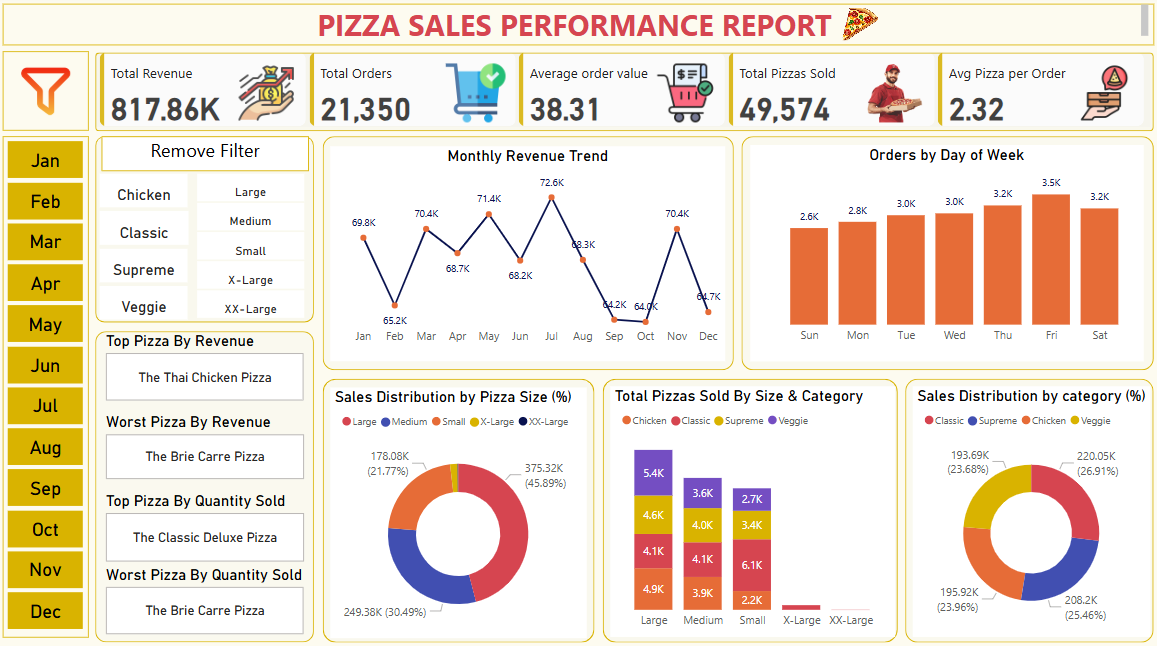

The page's visual inventory and layout, read from the dashboard file:
{"tool":"powerbi","page":{"name":"Dashboard","canvas":[1280,720],"ordinal":0},"visuals":[{"type":"cardVisual","fields":{"Data":["pizzahut_all_measures.Total Revenue","pizzahut_all_measures.Total Orders","pizzahut_all_measures.Average order value","pizzahut_all_measures.Total Pizzas Sold","pizzahut_all_measures.Average Pizza per Order"]},"box":[111.3,63.6,1158,81.9],"z":0},{"type":"shape","box":[111.1,369.1,240.1,341.7],"z":1000},{"type":"shape","box":[667.7,420.7,324.1,289.8],"z":2000},{"type":"shape","box":[820.5,155.3,452.4,256.8],"z":3000},{"type":"shape","box":[360.7,420.7,298.4,289.8],"z":4000},{"type":"shape","box":[1000.3,420.7,272.7,289.8],"z":5000},{"type":"shape","box":[360.7,155.3,451.2,256.8],"z":6000},{"type":"shape","box":[111.1,63.1,1162.3,86.4],"z":7000},{"type":"lineChart","title":"Monthly Revenue Trend ","fields":{"Category":["pizzahut orders.Month Name"],"Y":["pizzahut_all_measures.Total Revenue"]},"box":[369.1,166,433.6,236],"z":8000},{"type":"columnChart","title":"Orders by Day of Week","fields":{"Category":["pizzahut orders.Day Name"],"Y":["pizzahut_all_measures.Total Orders"]},"box":[830.3,165.1,431.7,237.2],"z":9000},{"type":"donutChart","title":"Sales Distribution by category (%)","fields":{"Category":["pizzahut pizza_types.category"],"Y":["pizzahut_all_measures.Total Revenue"]},"box":[1008.8,429.2,260.5,275.1],"z":10000},{"type":"columnChart","title":"Total Pizzas Sold By Size & Category","fields":{"Category":["pizzahut pizzas.size"],"Y":["pizzahut_all_measures.Total Pizzas Sold"],"Series":["pizzahut pizza_types.category"]},"box":[676.2,429.2,313,275.1],"z":11000},{"type":"donutChart","title":"Sales Distribution by Pizza Size (%)","fields":{"Y":["pizzahut_all_measures.Total Revenue"],"Category":["pizzahut pizzas.size"]},"box":[369.3,430.4,281.3,275.1],"z":12000},{"type":"textbox","box":[9.6,9,1263.8,45.3],"z":13000},{"type":"image","box":[919.4,9.6,60.4,45.3],"z":14000},{"type":"advancedSlicerVisual","fields":{"Values":["pizzahut orders.Month Name"]},"box":[9.6,155.1,94.7,550.3],"z":15000},{"type":"image","box":[9.8,61.1,94.2,86.8],"z":16000},{"type":"advancedSlicerVisual","title":"Top Pizza By Revenue","fields":{"Values":["pizzahut pizza_types.name"]},"box":[118,369.1,227.8,79.6],"z":17000},{"type":"advancedSlicerVisual","title":"Worst Pizza By Revenue","fields":{"Values":["pizzahut pizza_types.name"]},"box":[118,458.3,227.8,76.8],"z":18000},{"type":"advancedSlicerVisual","title":"Top Pizza By Quantity Sold","fields":{"Values":["pizzahut pizza_types.name"]},"box":[118,544.8,227.8,81],"z":19000},{"type":"advancedSlicerVisual","title":"Worst Pizza By Quantity Sold","fields":{"Values":["pizzahut pizza_types.name"]},"box":[118,625.7,227.8,79.6],"z":20000},{"type":"shape","box":[111.1,155.1,240.1,204.5],"z":21000},{"type":"actionButton","box":[118,155.1,227.8,38.4],"z":22000},{"type":"advancedSlicerVisual","fields":{"Values":["pizzahut pizza_types.category"]},"box":[111.1,196.2,107,160],"z":23000},{"type":"advancedSlicerVisual","fields":{"Values":["pizzahut pizzas.size"]},"box":[218.2,196.2,127.6,160],"z":24000}]}

Visuals, with their boxes in screenshot pixels (x1, y1, x2, y2), scaled from the page's 1280x720 canvas onto the 1157x646 screenshot:
cardVisual - pizzahut_all_measures.Total Revenue x pizzahut_all_measures.Total Orders: 101:57:1147:131
shape: 100:331:317:638
shape: 604:377:896:637
shape: 742:139:1151:370
shape: 326:377:596:637
shape: 904:377:1151:637
shape: 326:139:734:370
shape: 100:57:1151:134
"Monthly Revenue Trend " lineChart: 334:149:726:361
"Orders by Day of Week" columnChart: 751:148:1141:361
"Sales Distribution by category (%)" donutChart: 912:385:1147:632
"Total Pizzas Sold By Size & Category" columnChart: 611:385:894:632
"Sales Distribution by Pizza Size (%)" donutChart: 334:386:588:633
textbox: 9:8:1151:49
image: 831:9:886:49
advancedSlicerVisual - pizzahut orders.Month Name: 9:139:94:633
image: 9:55:94:133
"Top Pizza By Revenue" advancedSlicerVisual: 107:331:313:403
"Worst Pizza By Revenue" advancedSlicerVisual: 107:411:313:480
"Top Pizza By Quantity Sold" advancedSlicerVisual: 107:489:313:561
"Worst Pizza By Quantity Sold" advancedSlicerVisual: 107:561:313:633
shape: 100:139:317:323
actionButton: 107:139:313:174
advancedSlicerVisual - pizzahut pizza_types.category: 100:176:197:320
advancedSlicerVisual - pizzahut pizzas.size: 197:176:313:320
